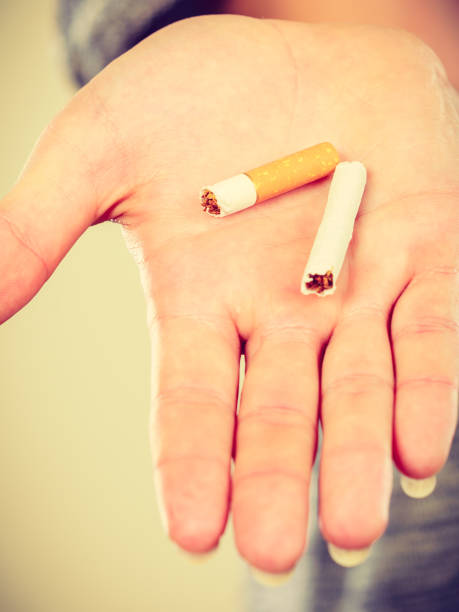cigarette: (200, 140, 344, 218), (300, 161, 371, 297)
